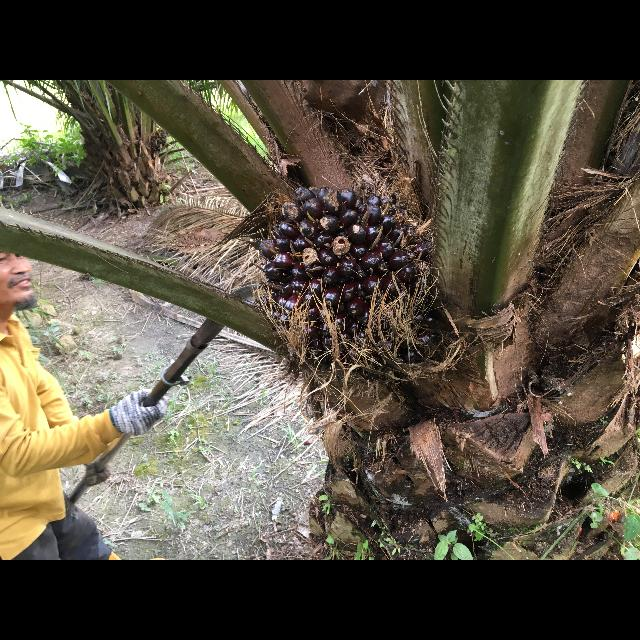Unripe: (256, 181, 426, 355)
